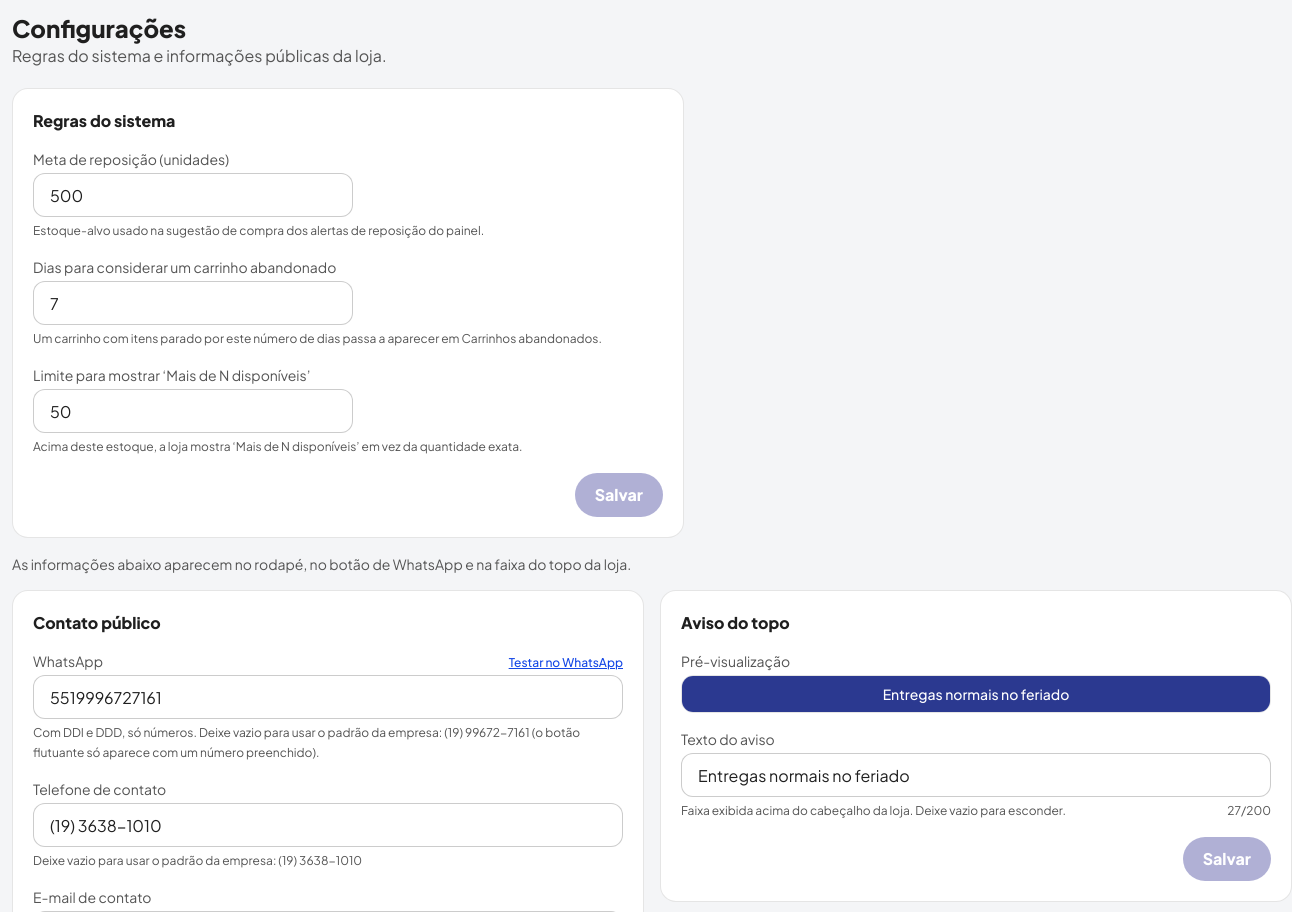
Test: Configurações: regras do sistema › Descartar restaura os valores
Replace the text in the number field labelled "Meta de reposição (unidades)" with "9": (193, 195) left=33, top=173, right=353, bottom=217
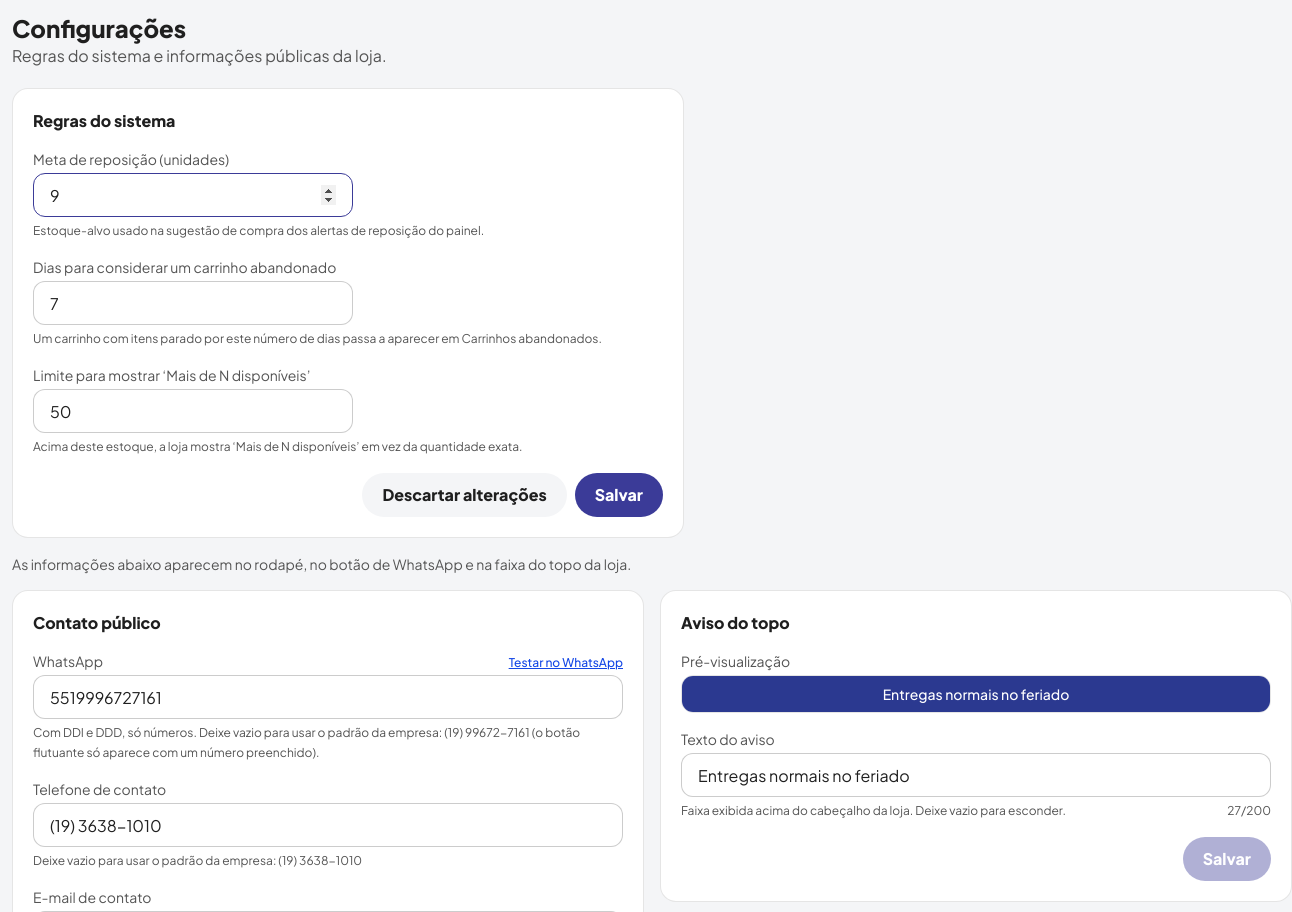
Click the button "Descartar alterações": (465, 495) left=362, top=473, right=567, bottom=517
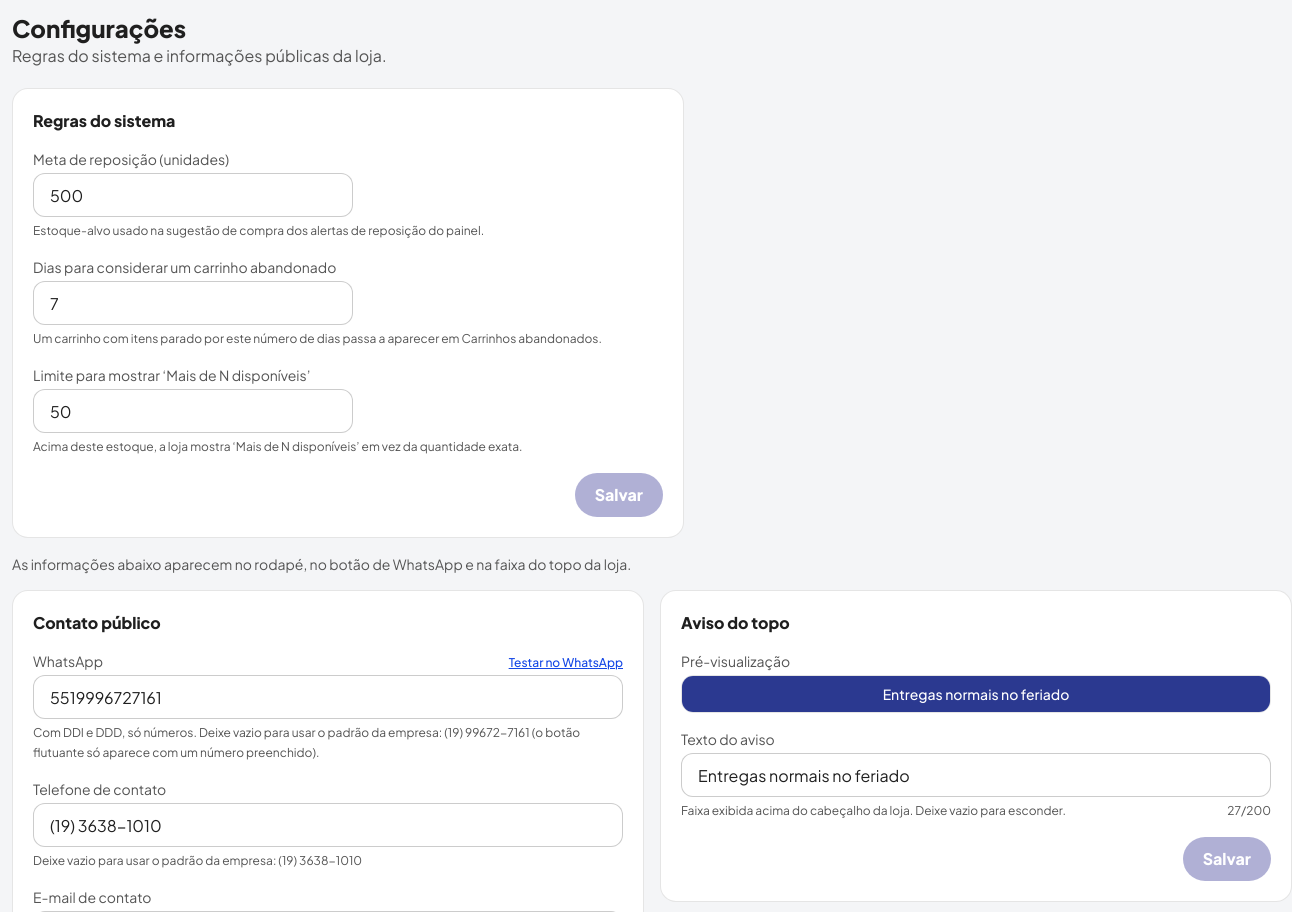
Expected: the number field labelled "Meta de reposição (unidades)" holds "500", left=33, top=173, right=353, bottom=217
Expected: the 1st button "Salvar" is disabled, left=575, top=473, right=663, bottom=517
